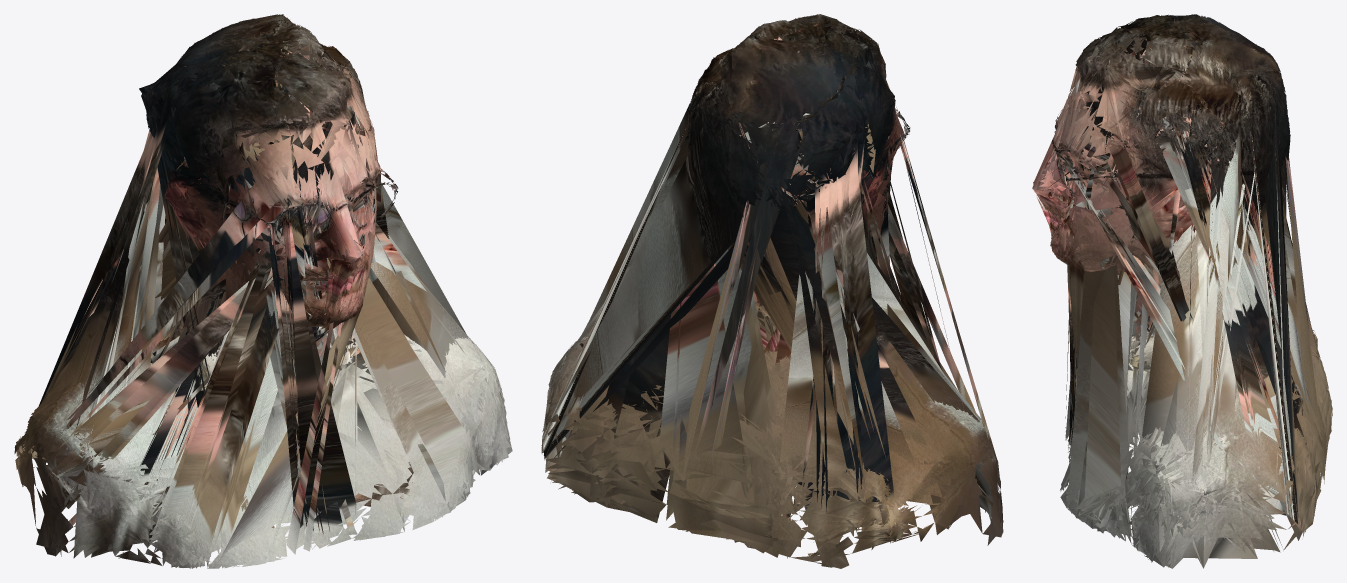
The model's file is opt.glb.
The picture shows the model from 3 angles, left to right: view 1: azimuth 30°, elevation 25°; view 2: azimuth 150°, elevation 25°; view 3: azimuth 270°, elevation 25°; orthographic projection. The views are drawn at different scales.
Parts seen in each view (by area): view 1: Mesh_0; view 2: Mesh_0; view 3: Mesh_0.
Boxes of the visible parts, box(x1,y1,x2,y2) form: Mesh_0: box(14, 14, 512, 568); Mesh_0: box(541, 14, 1003, 568); Mesh_0: box(1032, 14, 1332, 568).
Size of the model in its own units: 0.4711 by 0.4618 by 0.2898.
1 material, 1 textured.
